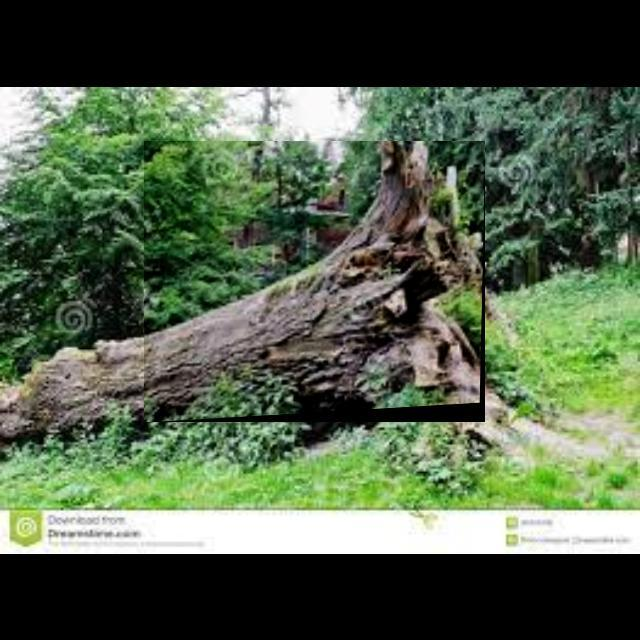fallen_tree: (144, 141, 486, 423)
